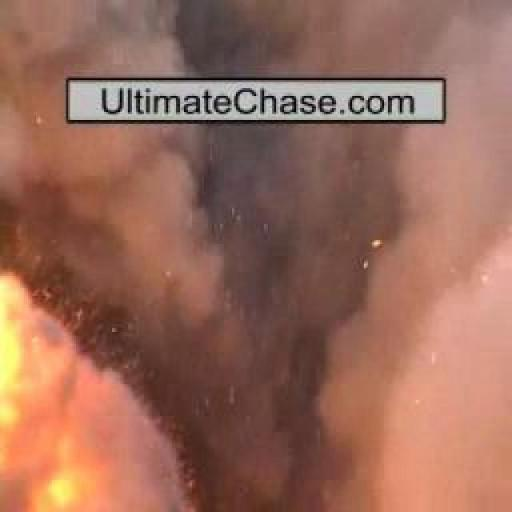smoke: (0, 253, 173, 512)
